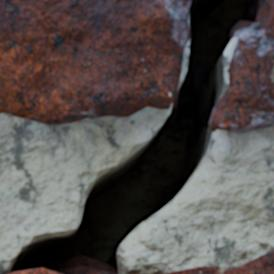brick: (167, 250, 273, 273), (14, 269, 54, 273)
broken_brick: (0, 0, 189, 125), (213, 0, 273, 133)
crack: (2, 0, 272, 273)
